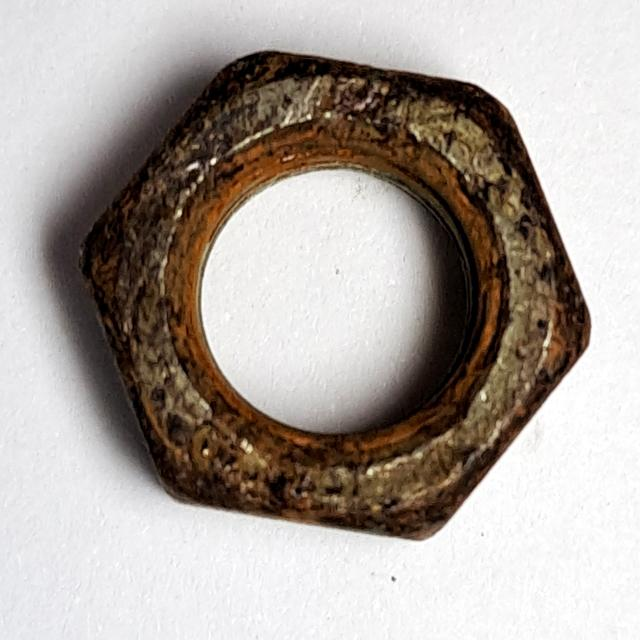Rust: (64, 31, 605, 553)
